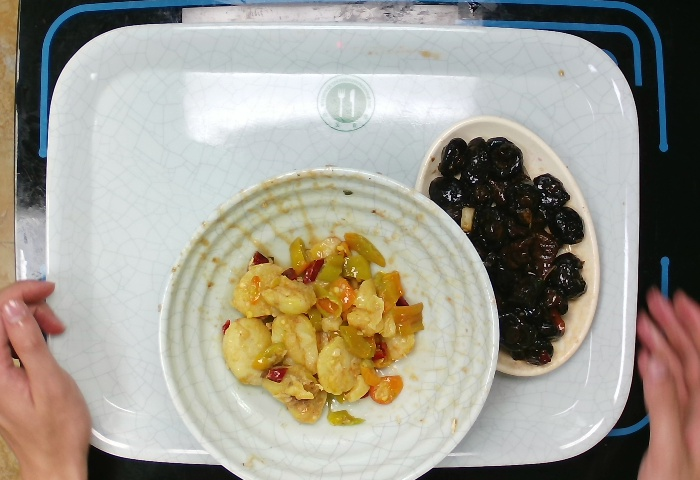JYsf-Da_Tang_Wan: (153, 156, 509, 480)
JYsf-Tuo_Yuan_Wan: (412, 112, 601, 379)
